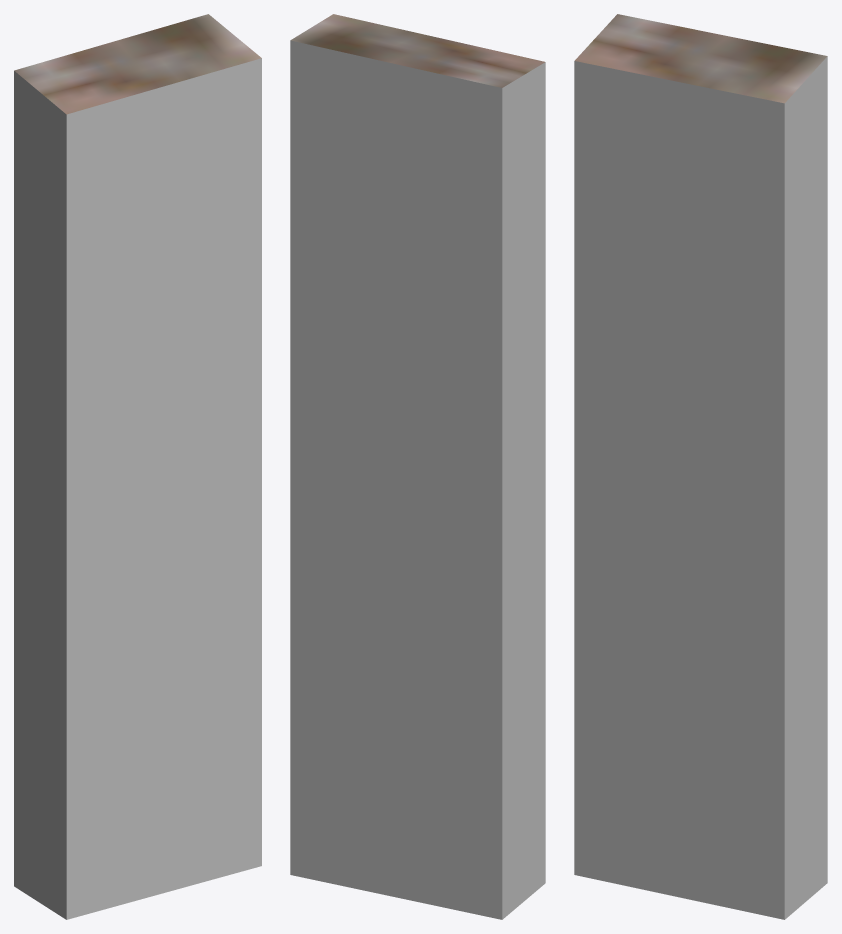
File: DEBW_0010007THWZ.gltf
3 renders of one model, left to right at view 1: azimuth 30°, elevation 25°; view 2: azimuth 150°, elevation 25°; view 3: azimuth 330°, elevation 25°, orthographic.
Visible parts, largest first — view 1: Z_UP; view 2: Z_UP; view 3: Z_UP.
Part boxes in pixels (x1,y1,x2,y2): Z_UP: (14,14,261,919); Z_UP: (290,14,545,919); Z_UP: (574,14,827,919).
Size of the model in its own units: 3.74 by 14.15 by 1.7.
Materials: 2 (1 with a texture image).
